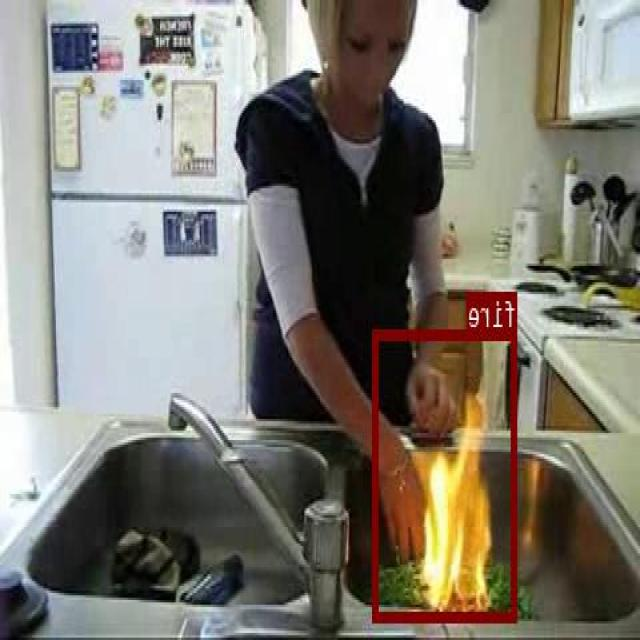fire: (374, 328, 518, 620)
